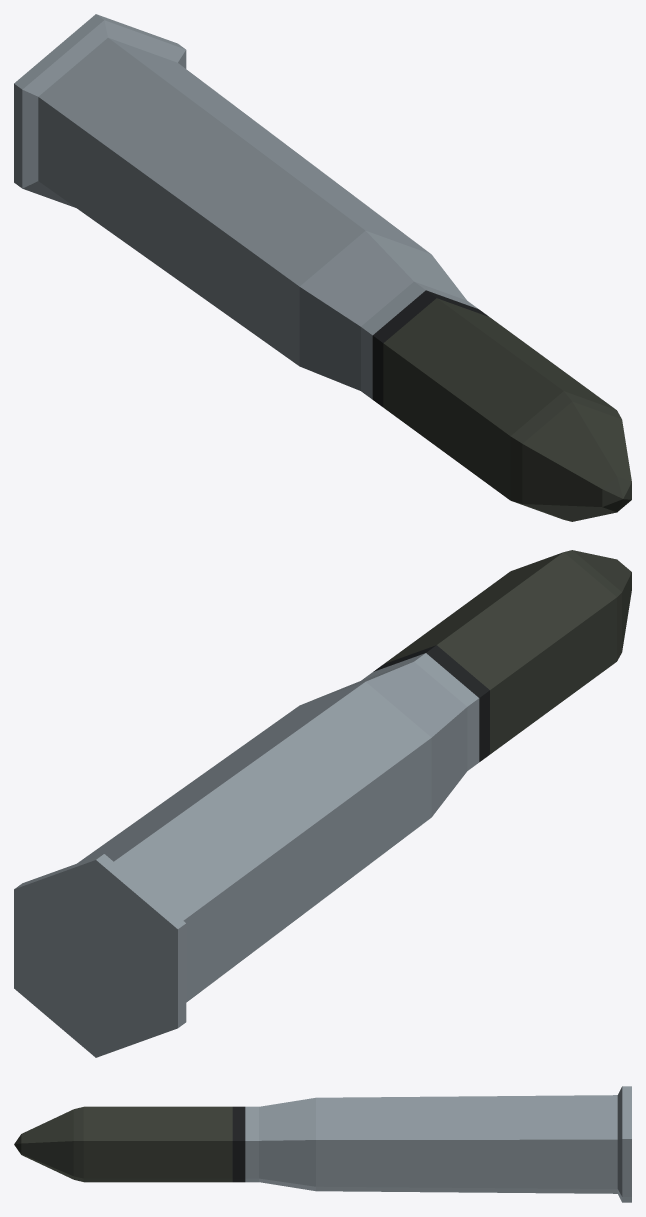
File: SM_Veh_Attach_Tank_Round_01.fbx
3 renders of one model, top to bottom at view 1: azimuth 30°, elevation 25°; view 2: azimuth 150°, elevation 25°; view 3: azimuth 270°, elevation 25°, orthographic. The views are drawn at different scales.
Parts seen in each view (by area): view 1: SM_Veh_Attach_Tank_Round_01; view 2: SM_Veh_Attach_Tank_Round_01; view 3: SM_Veh_Attach_Tank_Round_01.
Part boxes in pixels (box(x1,y1,x2,y2)): SM_Veh_Attach_Tank_Round_01: box(14, 14, 631, 521); SM_Veh_Attach_Tank_Round_01: box(14, 550, 631, 1057); SM_Veh_Attach_Tank_Round_01: box(14, 1086, 631, 1202).
Size of the model in its own units: 22.24 by 25.68 by 124.
